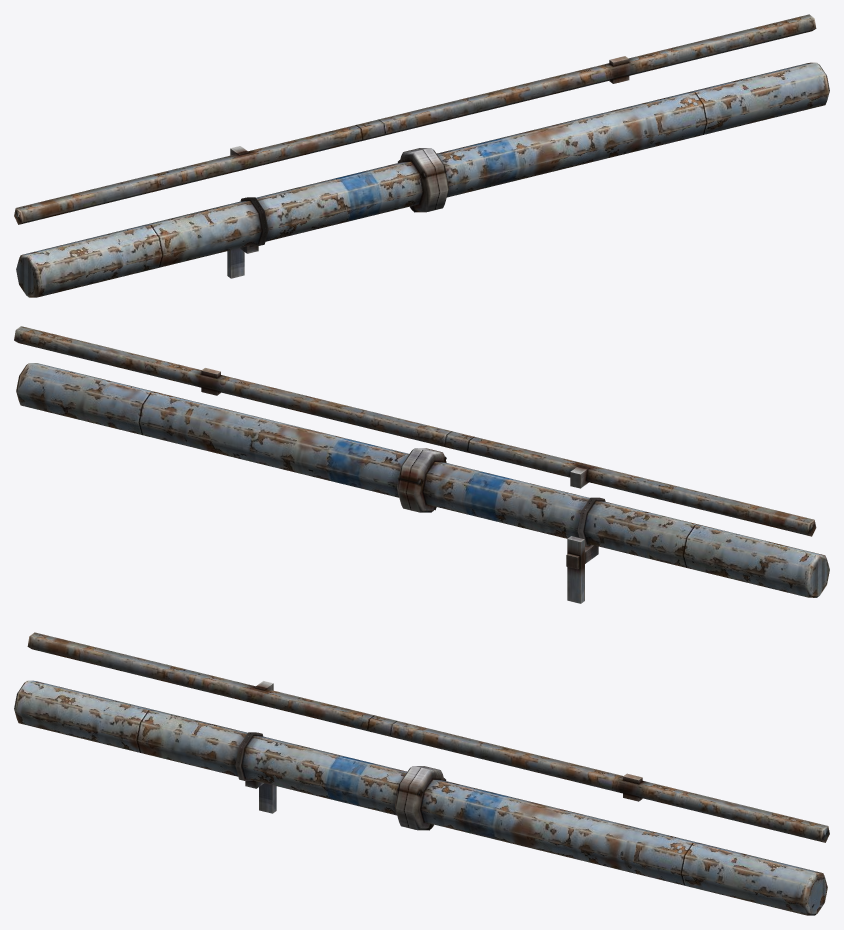
File: cano_parede.glb
3 views of the same model, one above another, from view 1: azimuth 30°, elevation 25°; view 2: azimuth 150°, elevation 25°; view 3: azimuth 330°, elevation 25° (orthographic).
Parts seen in each view (by area): view 1: cano_parede; view 2: cano_parede; view 3: cano_parede.
Part boxes in pixels (bbox=[...]): cano_parede: bbox=[14, 14, 829, 297]; cano_parede: bbox=[14, 326, 829, 603]; cano_parede: bbox=[14, 632, 829, 915].
Size of the model in its own units: 3.5 by 0.555 by 0.2878.
1 material, 1 textured.
